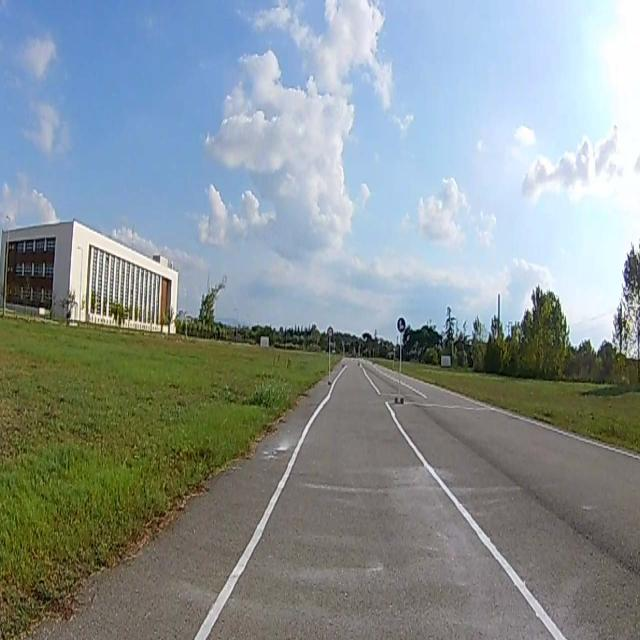ilerisag: (397, 318, 405, 333)
